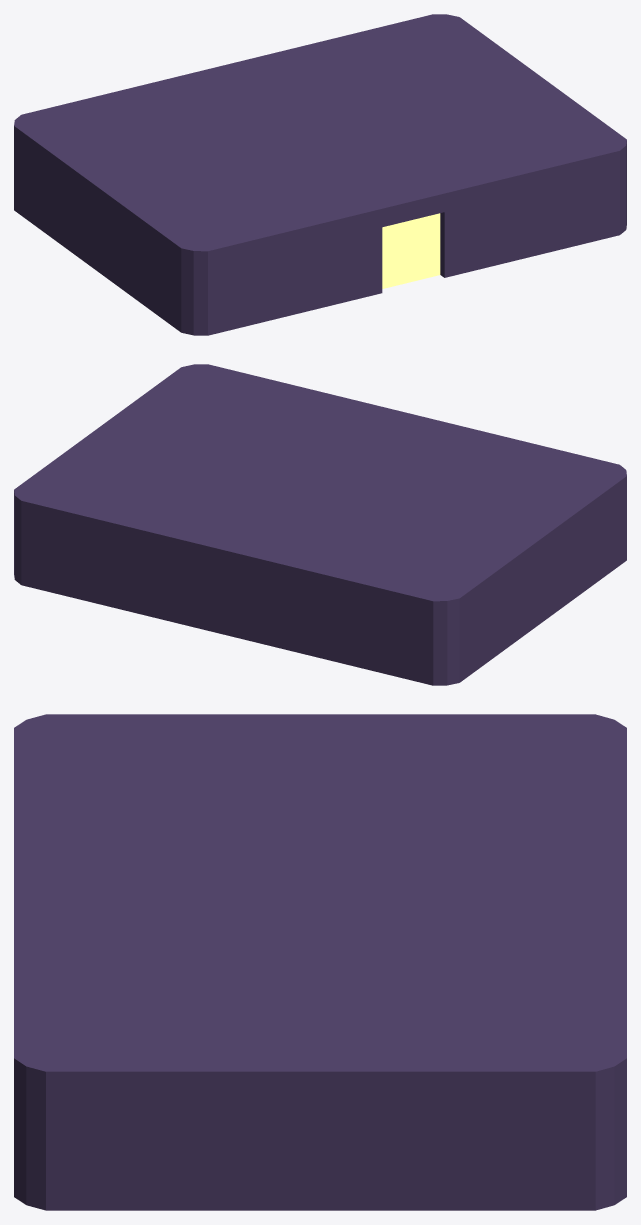
The model's file is RDC.fbx.
The picture shows the model from 3 angles, top to bottom: view 1: azimuth 30°, elevation 25°; view 2: azimuth 150°, elevation 25°; view 3: azimuth 270°, elevation 25°; orthographic projection. The views are drawn at different scales.
Visible parts, largest first — view 1: Cube.001; view 2: Cube.001; view 3: Cube.001.
Boxes of the visible parts, <box> form: Cube.001: <box>14,14,626,335</box>; Cube.001: <box>14,364,626,685</box>; Cube.001: <box>14,714,626,1210</box>.
Size of the model in its own units: 584 by 106 by 423.
